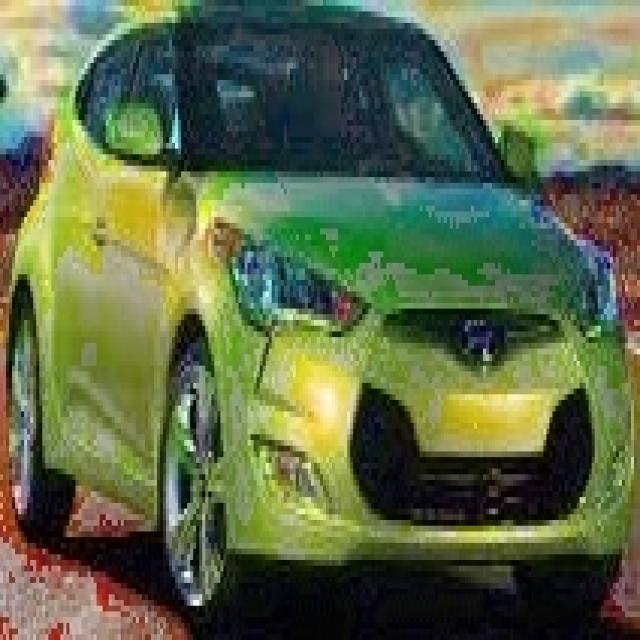green: (6, 12, 640, 554)
